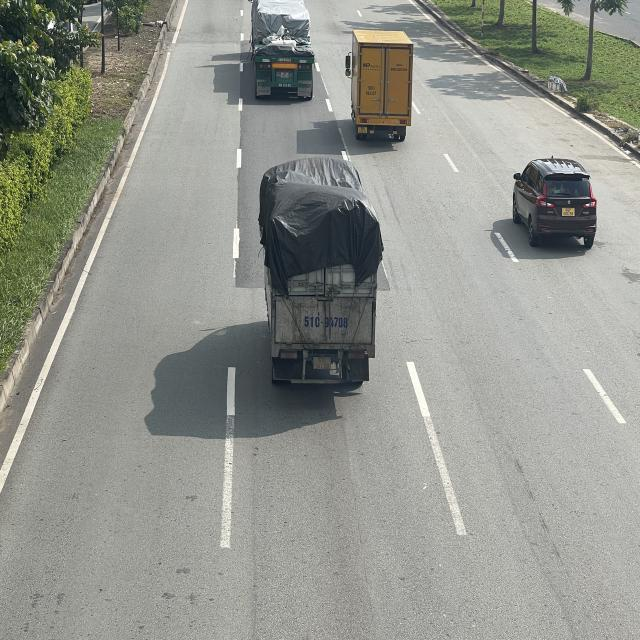car: (514, 160, 600, 251)
container: (249, 2, 316, 101)
truck: (257, 156, 382, 389), (343, 30, 412, 141)
